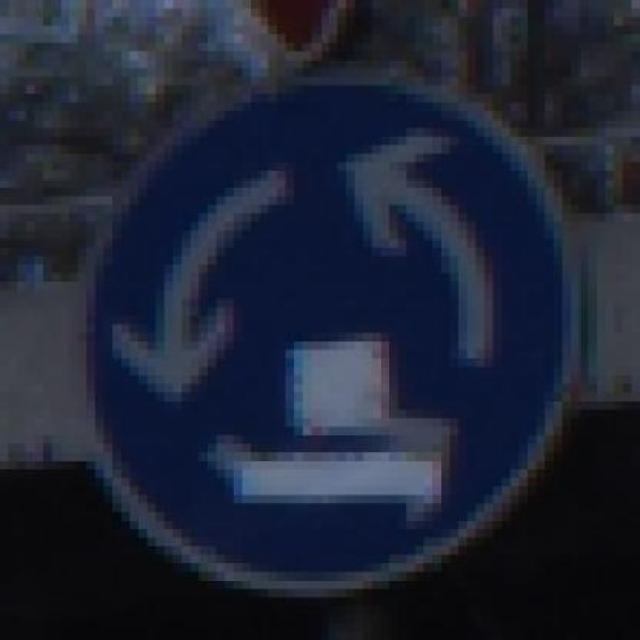Round-About: (34, 51, 597, 606)
